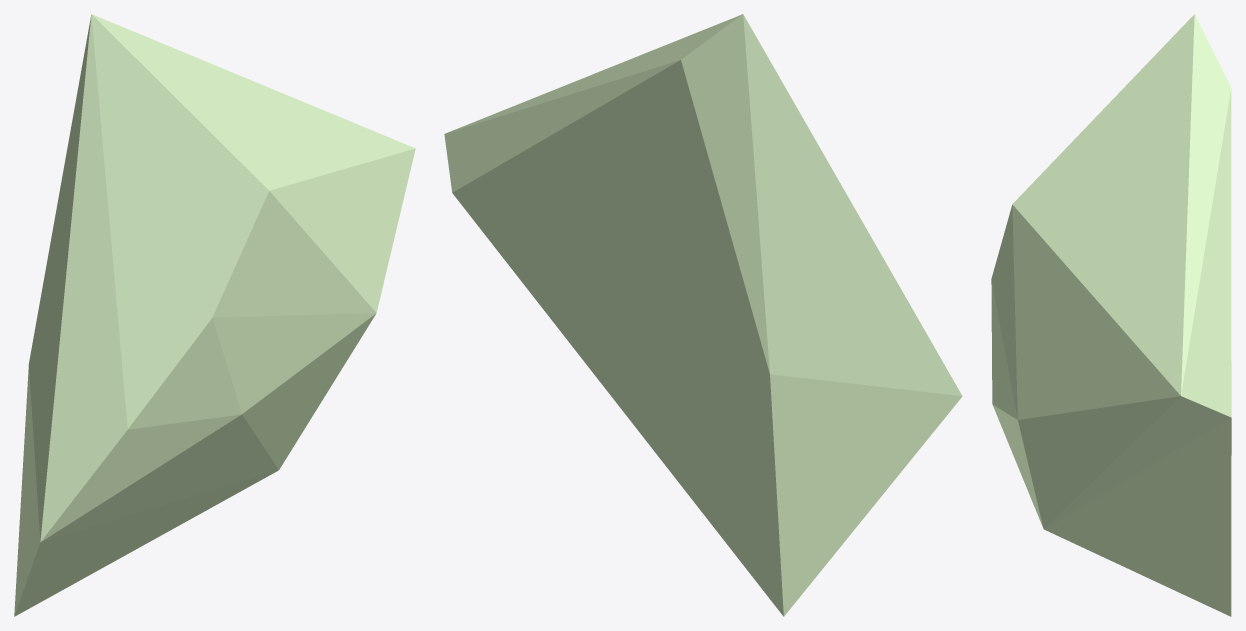
Rendered from kuka_robot_base_coll_3.dae.
3 renders of one model, left to right at view 1: azimuth 30°, elevation 25°; view 2: azimuth 150°, elevation 25°; view 3: azimuth 270°, elevation 25°, orthographic. The views are drawn at different scales.
Parts seen in each view (by area): view 1: Node_0000015C5C914970; view 2: Node_0000015C5C914970; view 3: Node_0000015C5C914970.
Part boxes in pixels (x1,y1,x2,y2): Node_0000015C5C914970: (14,14,415,616); Node_0000015C5C914970: (444,14,962,616); Node_0000015C5C914970: (991,14,1231,616).
Size of the model in its own units: 0.0303 by 0.0381 by 0.0131.
